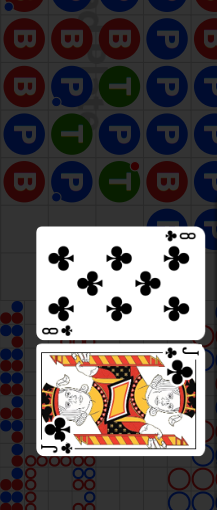8C: (163, 229, 197, 243)
JC: (40, 441, 74, 456)
